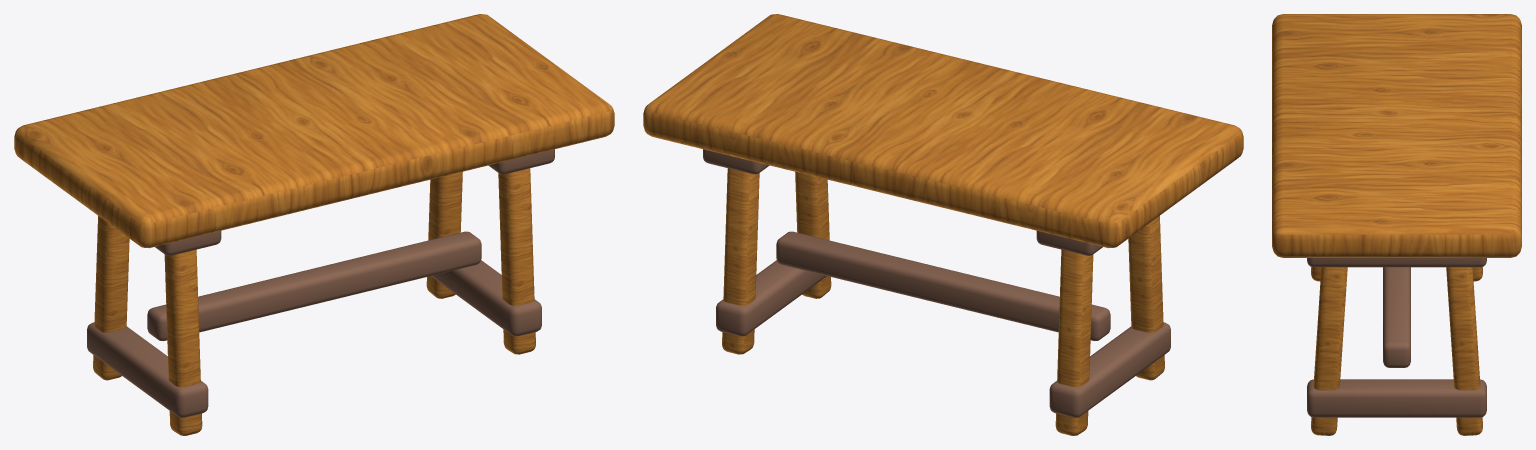
Rendered from trestle-desk.glb.
The picture shows the model from 3 angles, left to right: view 1: azimuth 30°, elevation 25°; view 2: azimuth 150°, elevation 25°; view 3: azimuth 270°, elevation 25°; orthographic projection. The views are drawn at different scales.
Visible parts, largest first — view 1: trestle-desk; view 2: trestle-desk; view 3: trestle-desk.
Part boxes in pixels (bbox=[...]): trestle-desk: bbox=[14, 14, 614, 435]; trestle-desk: bbox=[643, 14, 1243, 435]; trestle-desk: bbox=[1272, 14, 1521, 435].
Bounding box in the file's own units: 1.5 × 0.7491 × 0.72.
Materials: 2 (1 with a texture image).
